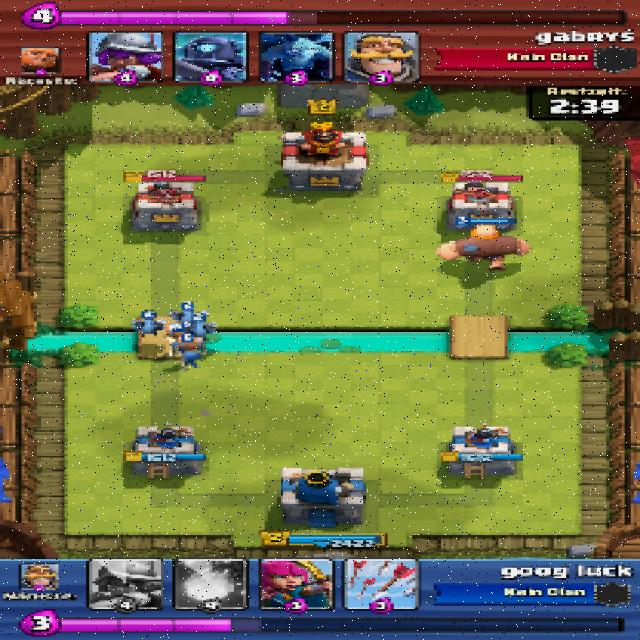Player-Giant: (437, 224, 529, 269)
Player-Minion: (137, 319, 163, 334), (188, 322, 215, 336), (178, 309, 200, 324)
Player-Wallbreaker: (165, 326, 192, 349), (180, 346, 206, 368)
